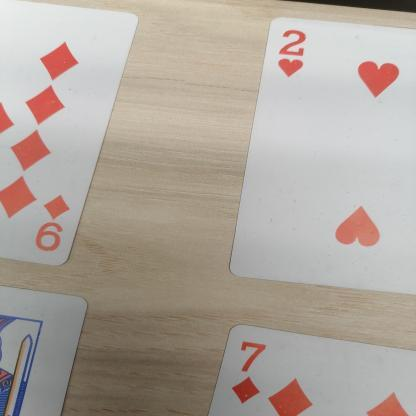2H: (262, 22, 330, 90)
7D: (225, 330, 288, 404)
9D: (17, 184, 85, 270)
